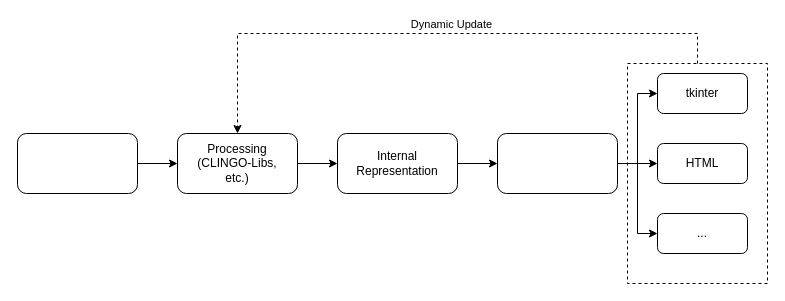
Image size: 785x301. Some labels were removed from this diagram. The shapes that lost their labels are listed below. From the top down, each one's centre as x and y in pixels, then its label:
the point at 77,163: Logic-Program Representation
the point at 557,163: Postprocessing (Depends on the representation)
